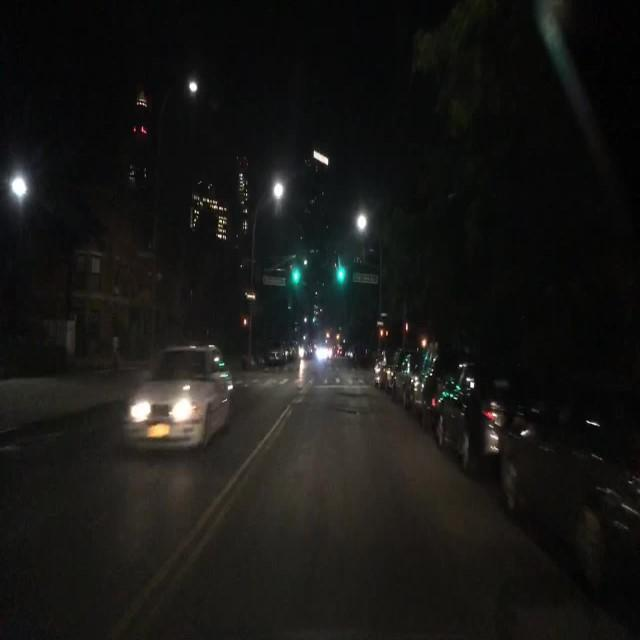normal: (96, 329, 249, 469)
